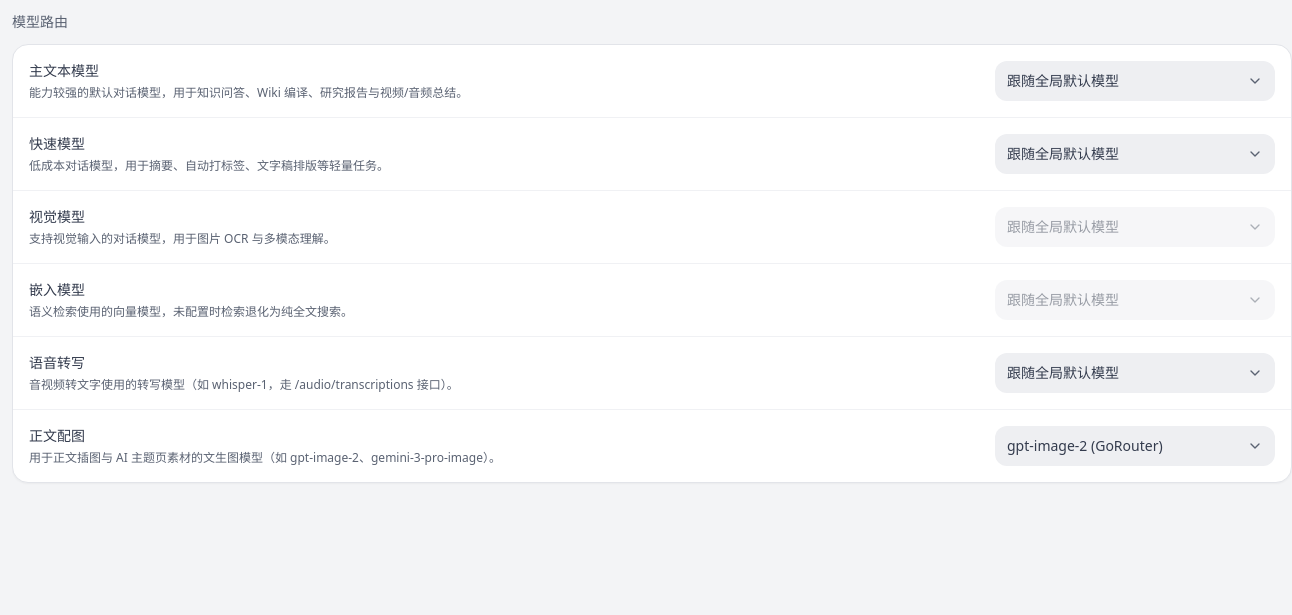
Test case: 模型路由多供应商同名模型区分 › 供应商临时禁用对模型路由的影响 › UI 渲染中，被禁用供应商的模型不再出现在下拉选项中
This screenshot has width=1292, height=615.
What coordinates should you click on to do the following:
click the button with aria-label "正文配图"
I would click on:
 (1135, 446)
Its box is [995,426,1275,466].
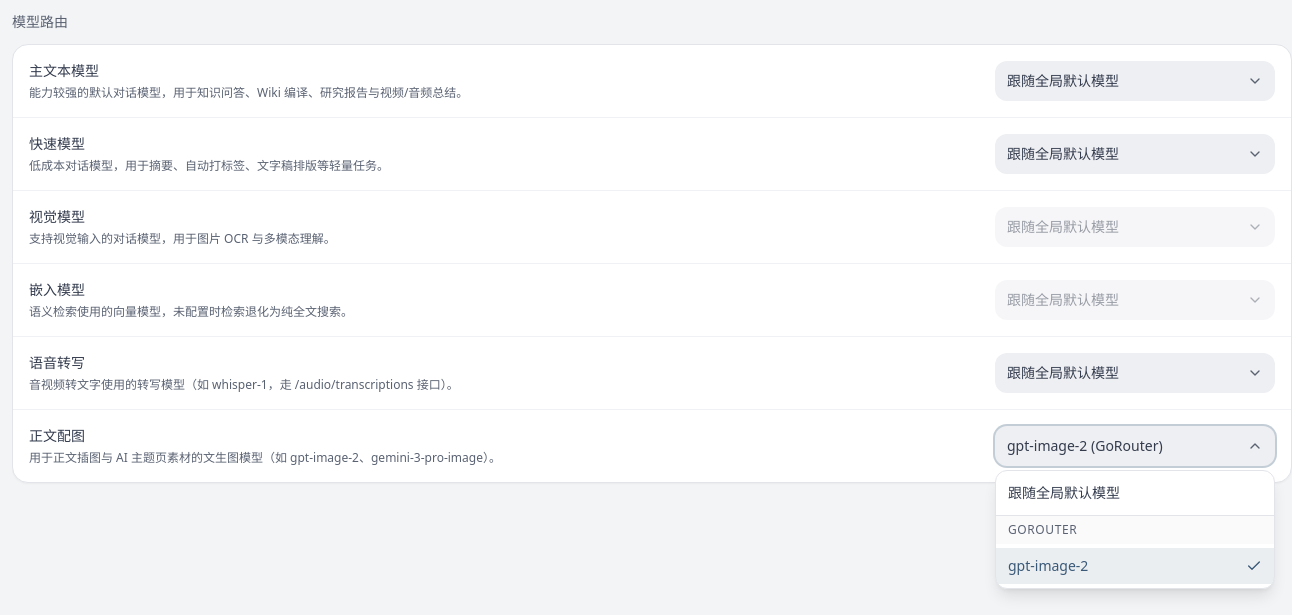
Expected: the text "GoRouter" is shown, [996,516,1274,544]
Expected: the number of options "gpt-image-2" is 1, [996,548,1274,584]
